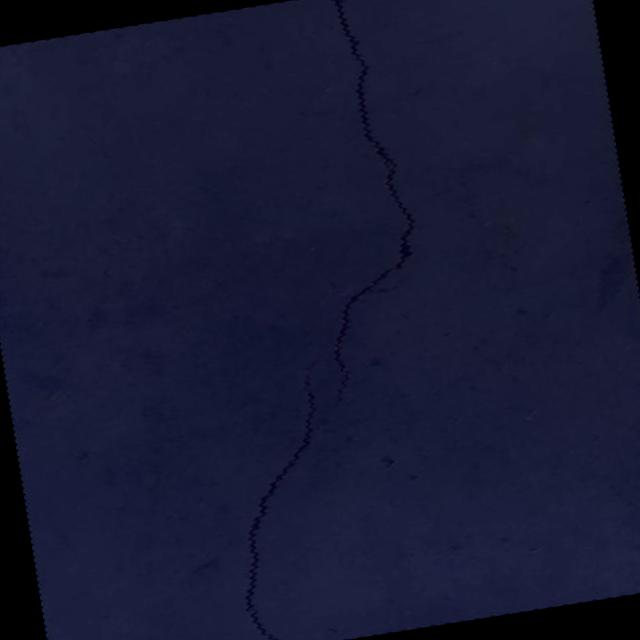crack: (262, 0, 443, 414), (205, 337, 378, 640)
